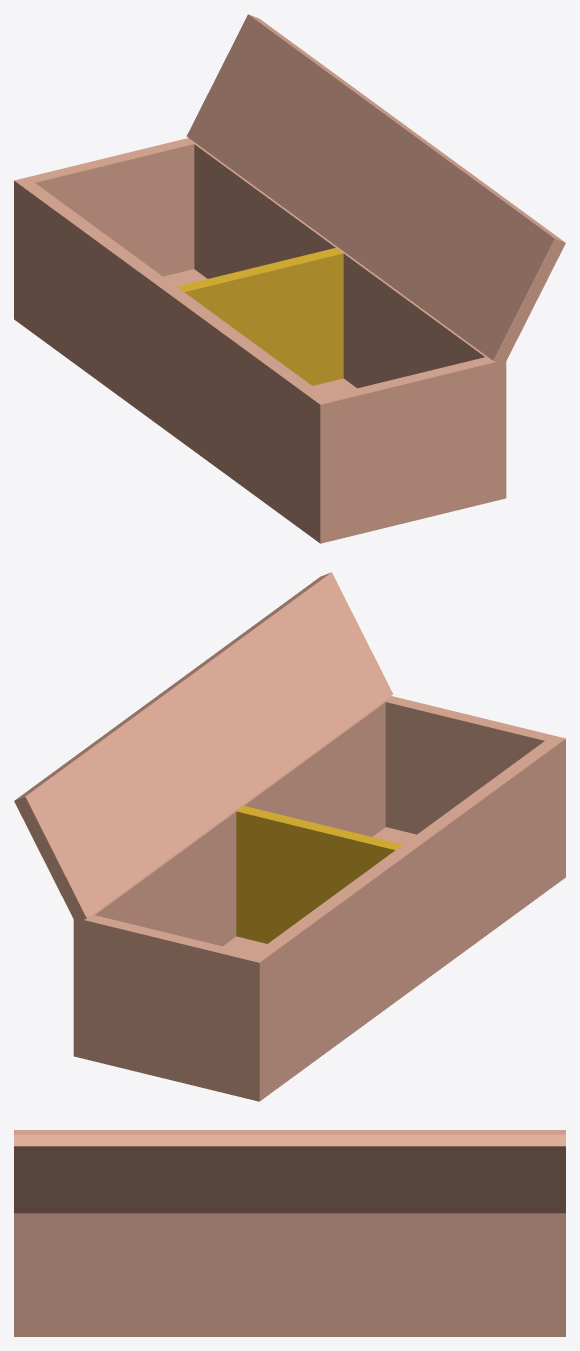
The model's file is trashCan.fbx.
3 renders of one model, top to bottom at view 1: azimuth 30°, elevation 25°; view 2: azimuth 150°, elevation 25°; view 3: azimuth 270°, elevation 25°, orthographic. The views are drawn at different scales.
Visible parts, largest first — view 1: Cube.006, Cube.001, Cube.002, Cube.004, Cube.003, Cube.005, Cube; view 2: Cube.006, Cube.001, Cube.002, Cube.003, Cube.004, Cube.005, Cube; view 3: Cube.002, Cube.006, Cube, Cube.001.
Boxes of the visible parts, x1=… form: Cube.006: x1=186, y1=14, x2=565, y2=364; Cube.001: x1=14, y1=177, x2=333, y2=529; Cube.002: x1=187, y1=138, x2=506, y2=487; Cube.004: x1=326, y1=357, x2=492, y2=526; Cube.003: x1=27, y1=138, x2=194, y2=276; Cube.005: x1=177, y1=248, x2=343, y2=385; Cube: x1=14, y1=269, x2=506, y2=543; Cube.006: x1=14, y1=572, x2=393, y2=921; Cube.001: x1=246, y1=735, x2=565, y2=1087; Cube.002: x1=73, y1=696, x2=392, y2=1045; Cube.003: x1=87, y1=915, x2=253, y2=1084; Cube.004: x1=385, y1=696, x2=552, y2=834; Cube.005: x1=236, y1=806, x2=402, y2=943; Cube: x1=73, y1=827, x2=565, y2=1101; Cube.002: x1=14, y1=1213, x2=565, y2=1324; Cube.006: x1=14, y1=1134, x2=565, y2=1213; Cube: x1=14, y1=1324, x2=565, y2=1336; Cube.001: x1=14, y1=1130, x2=565, y2=1134.
Size of the model in its own units: 185 by 179 by 400.
